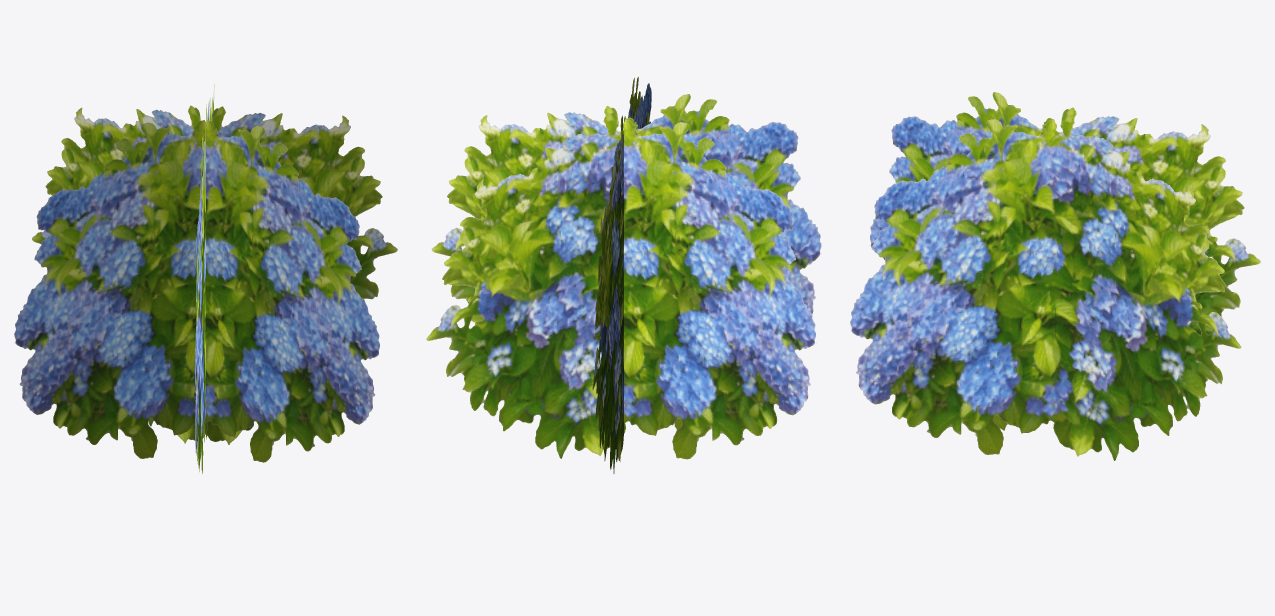
Rendered from hortenciaarbusto.fbx.
3 renders of one model, left to right at view 1: azimuth 30°, elevation 25°; view 2: azimuth 150°, elevation 25°; view 3: azimuth 270°, elevation 25°, orthographic.
Visible parts, largest first — view 1: obj1; view 2: obj1; view 3: obj1.
Part boxes in pixels (left/top/right/bottom): obj1: left=14, top=84, right=397, bottom=474; obj1: left=426, top=77, right=821, bottom=473; obj1: left=850, top=92, right=1260, bottom=460.
Bounding box in the file's own units: 144 × 144 × 134.
1 material, 1 textured.
